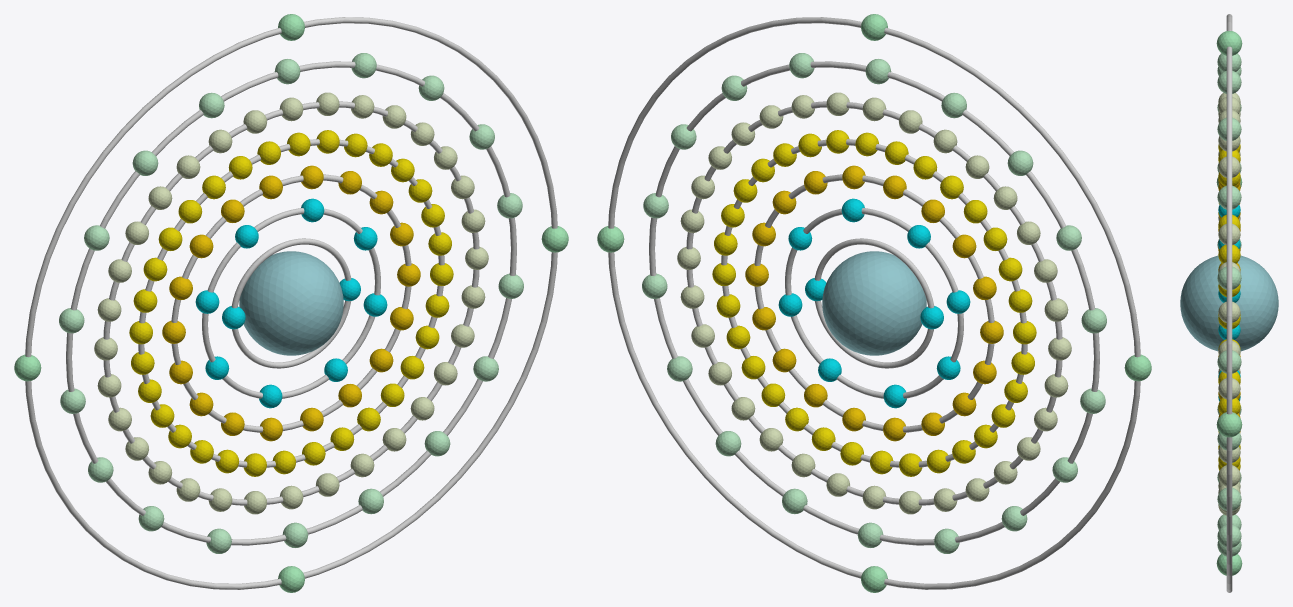
The picture shows the model from 3 angles, left to right: view 1: azimuth 30°, elevation 25°; view 2: azimuth 150°, elevation 25°; view 3: azimuth 270°, elevation 25°; orthographic projection. The views are drawn at different scales.
Visible parts, largest first — view 1: world; view 2: world; view 3: world.
Part boxes in pixels (bbox=[...]): world: bbox=[14, 14, 568, 592]; world: bbox=[597, 14, 1151, 592]; world: bbox=[1180, 14, 1278, 592].
Size of the model in its own units: 2.67 by 2.67 by 0.44.
